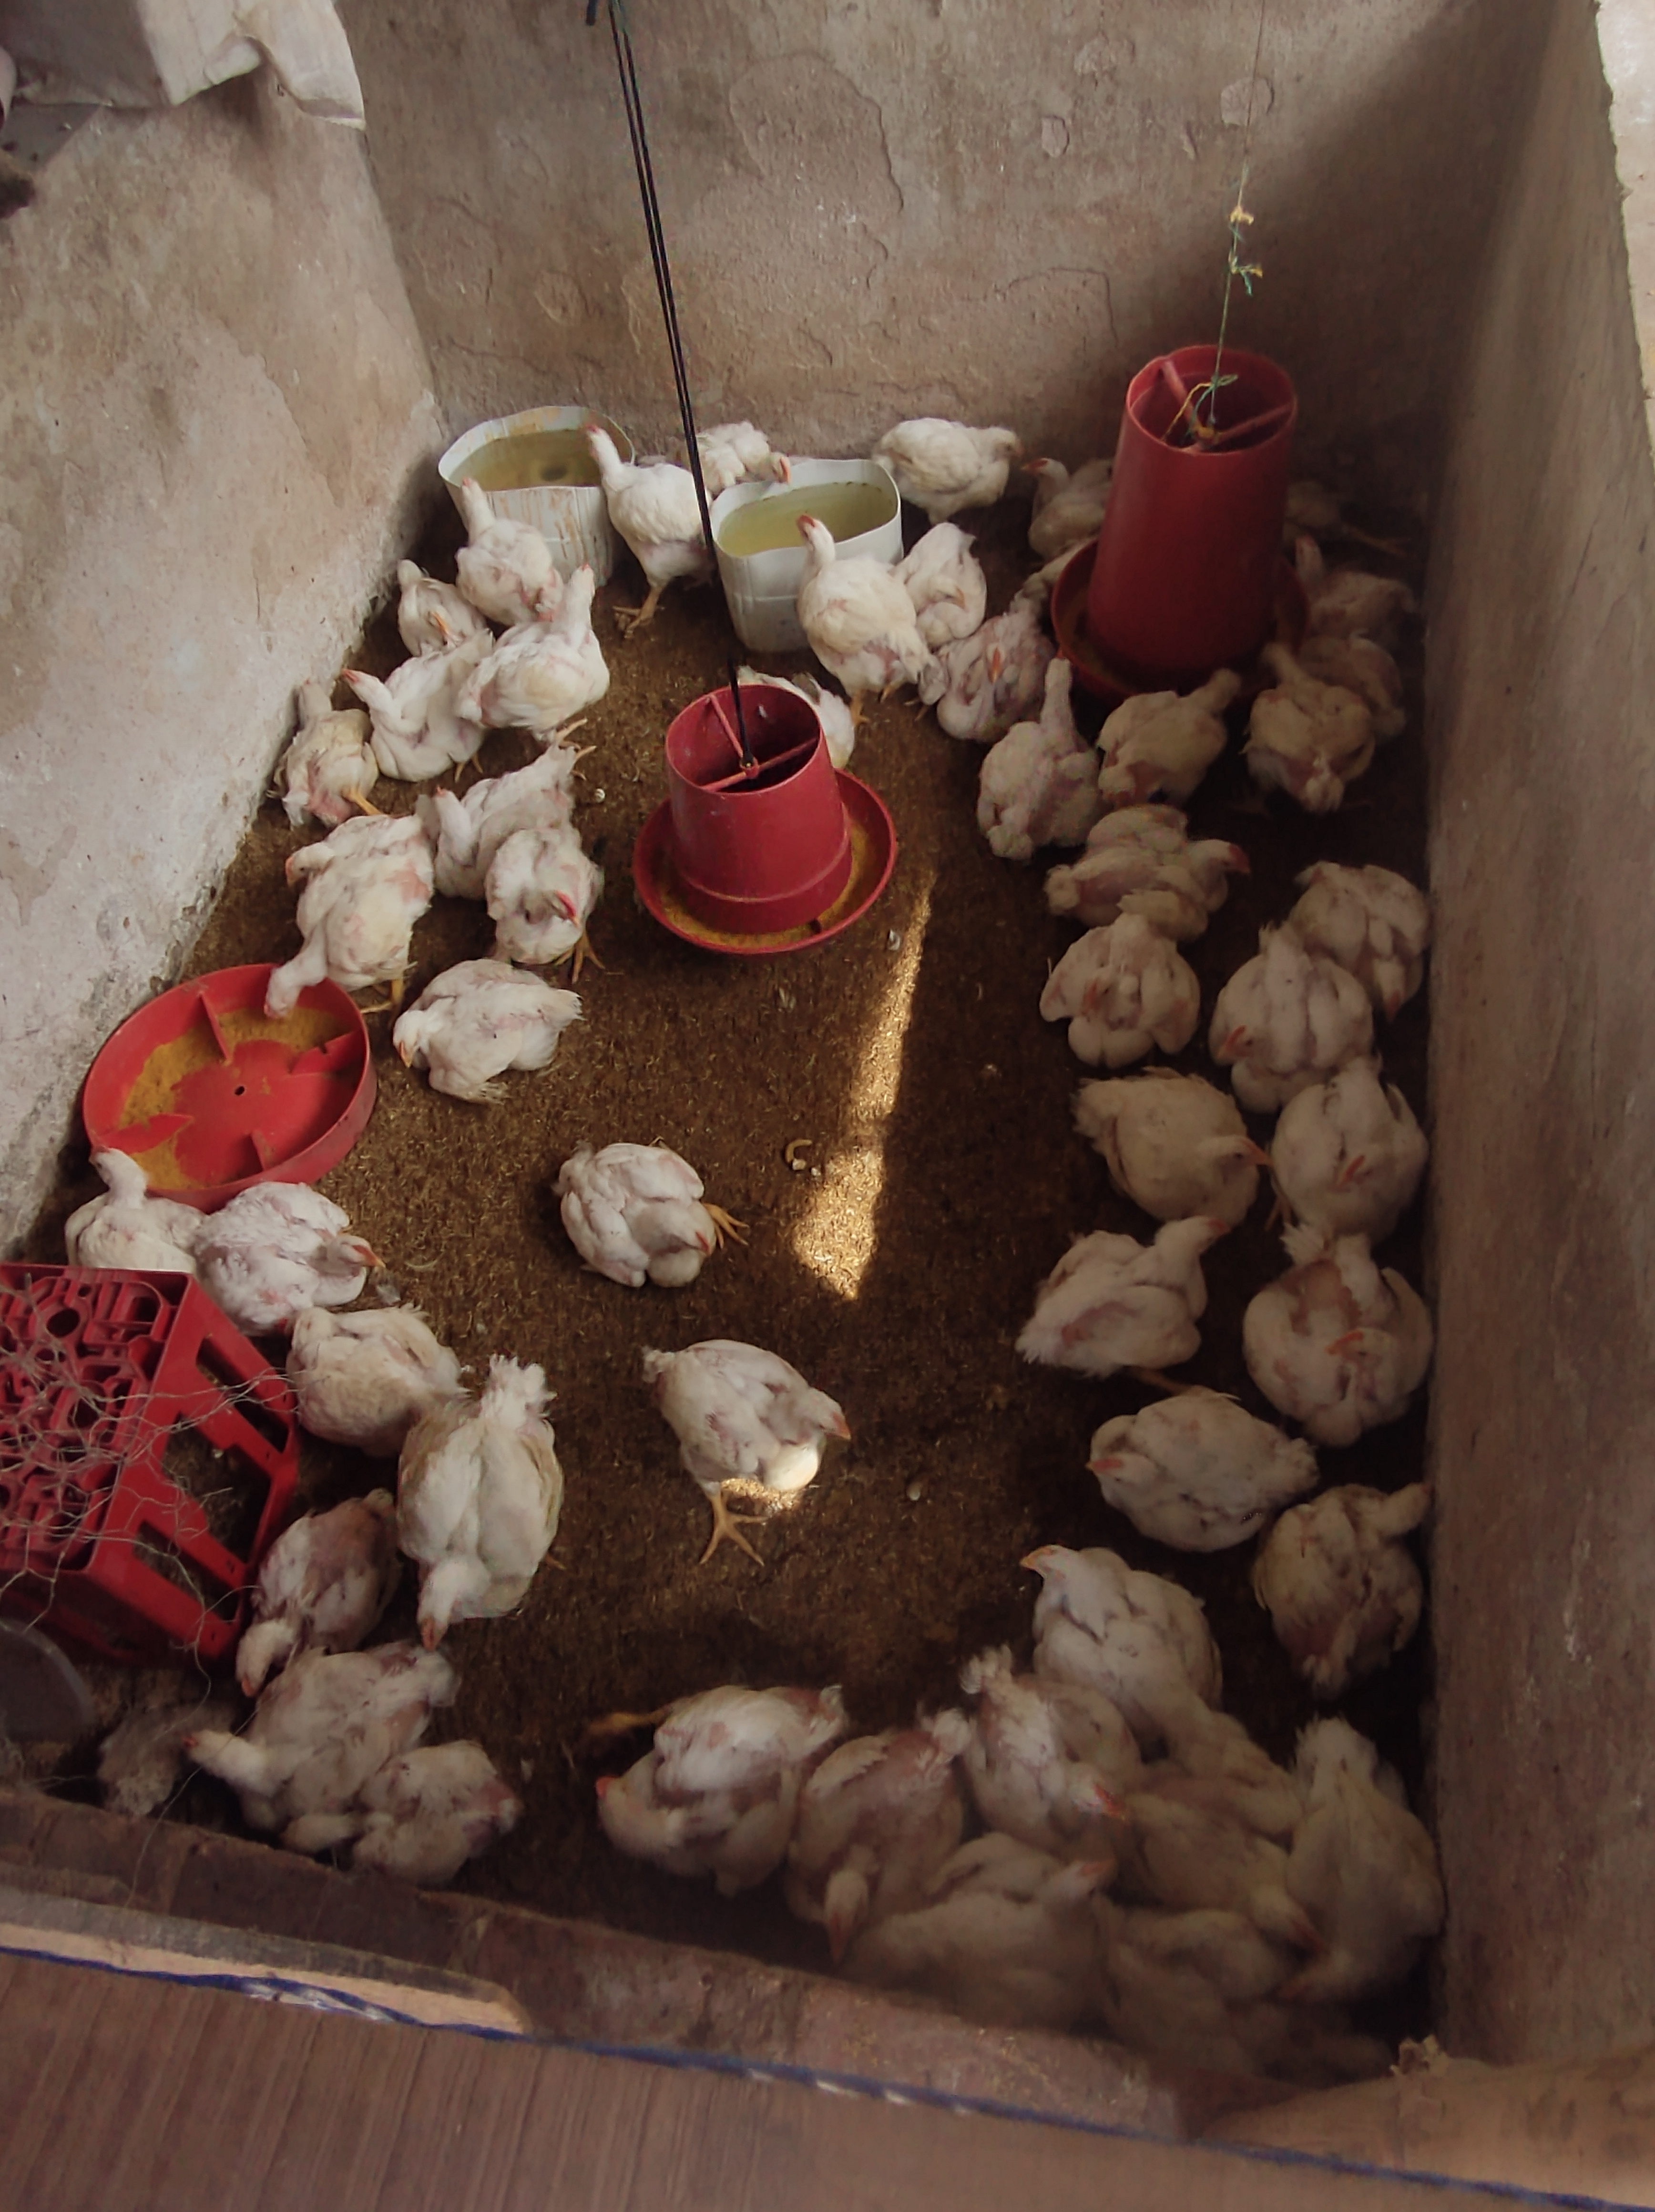Pollos: (588, 1685, 840, 1869), (398, 1365, 548, 1647), (636, 1339, 859, 1502), (1012, 1530, 1210, 1708), (250, 831, 429, 1026), (965, 1661, 1135, 1850), (176, 1662, 407, 1802), (276, 1736, 513, 1868), (1259, 1243, 1424, 1426), (1029, 1214, 1229, 1363), (805, 1748, 939, 1958), (393, 960, 588, 1104), (1279, 1476, 1436, 1656), (468, 555, 605, 751), (565, 1139, 735, 1292), (235, 1502, 369, 1697), (1078, 1075, 1274, 1207), (784, 503, 925, 687), (1087, 1396, 1250, 1544), (1047, 918, 1208, 1064), (1093, 663, 1248, 798), (1066, 803, 1250, 916), (285, 1303, 468, 1416), (572, 421, 704, 572), (1208, 949, 1372, 1071), (207, 1195, 391, 1301), (1302, 1064, 1424, 1221), (1259, 640, 1380, 790), (494, 821, 608, 963), (454, 466, 558, 621), (346, 649, 478, 769), (1014, 650, 1090, 854), (869, 416, 1029, 506), (935, 607, 1050, 723), (1292, 530, 1419, 631), (66, 1144, 183, 1252), (278, 675, 370, 805), (1026, 447, 1116, 558), (386, 553, 468, 654), (417, 783, 506, 863), (708, 423, 801, 492)
